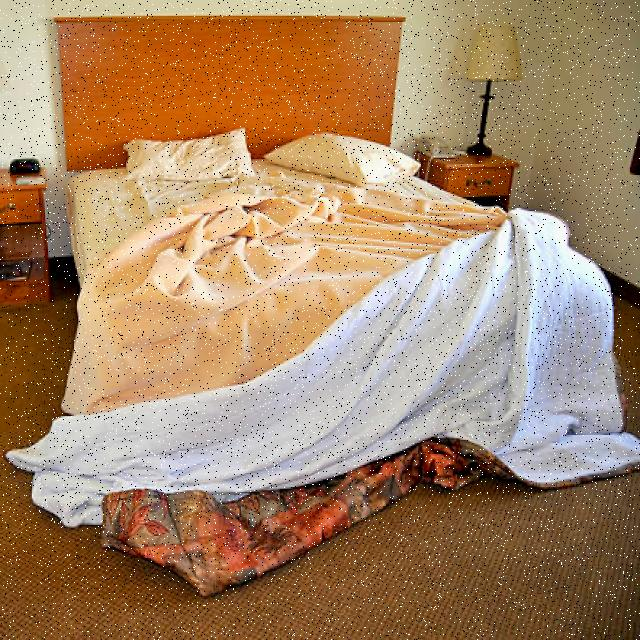bed: (30, 124, 620, 521)
